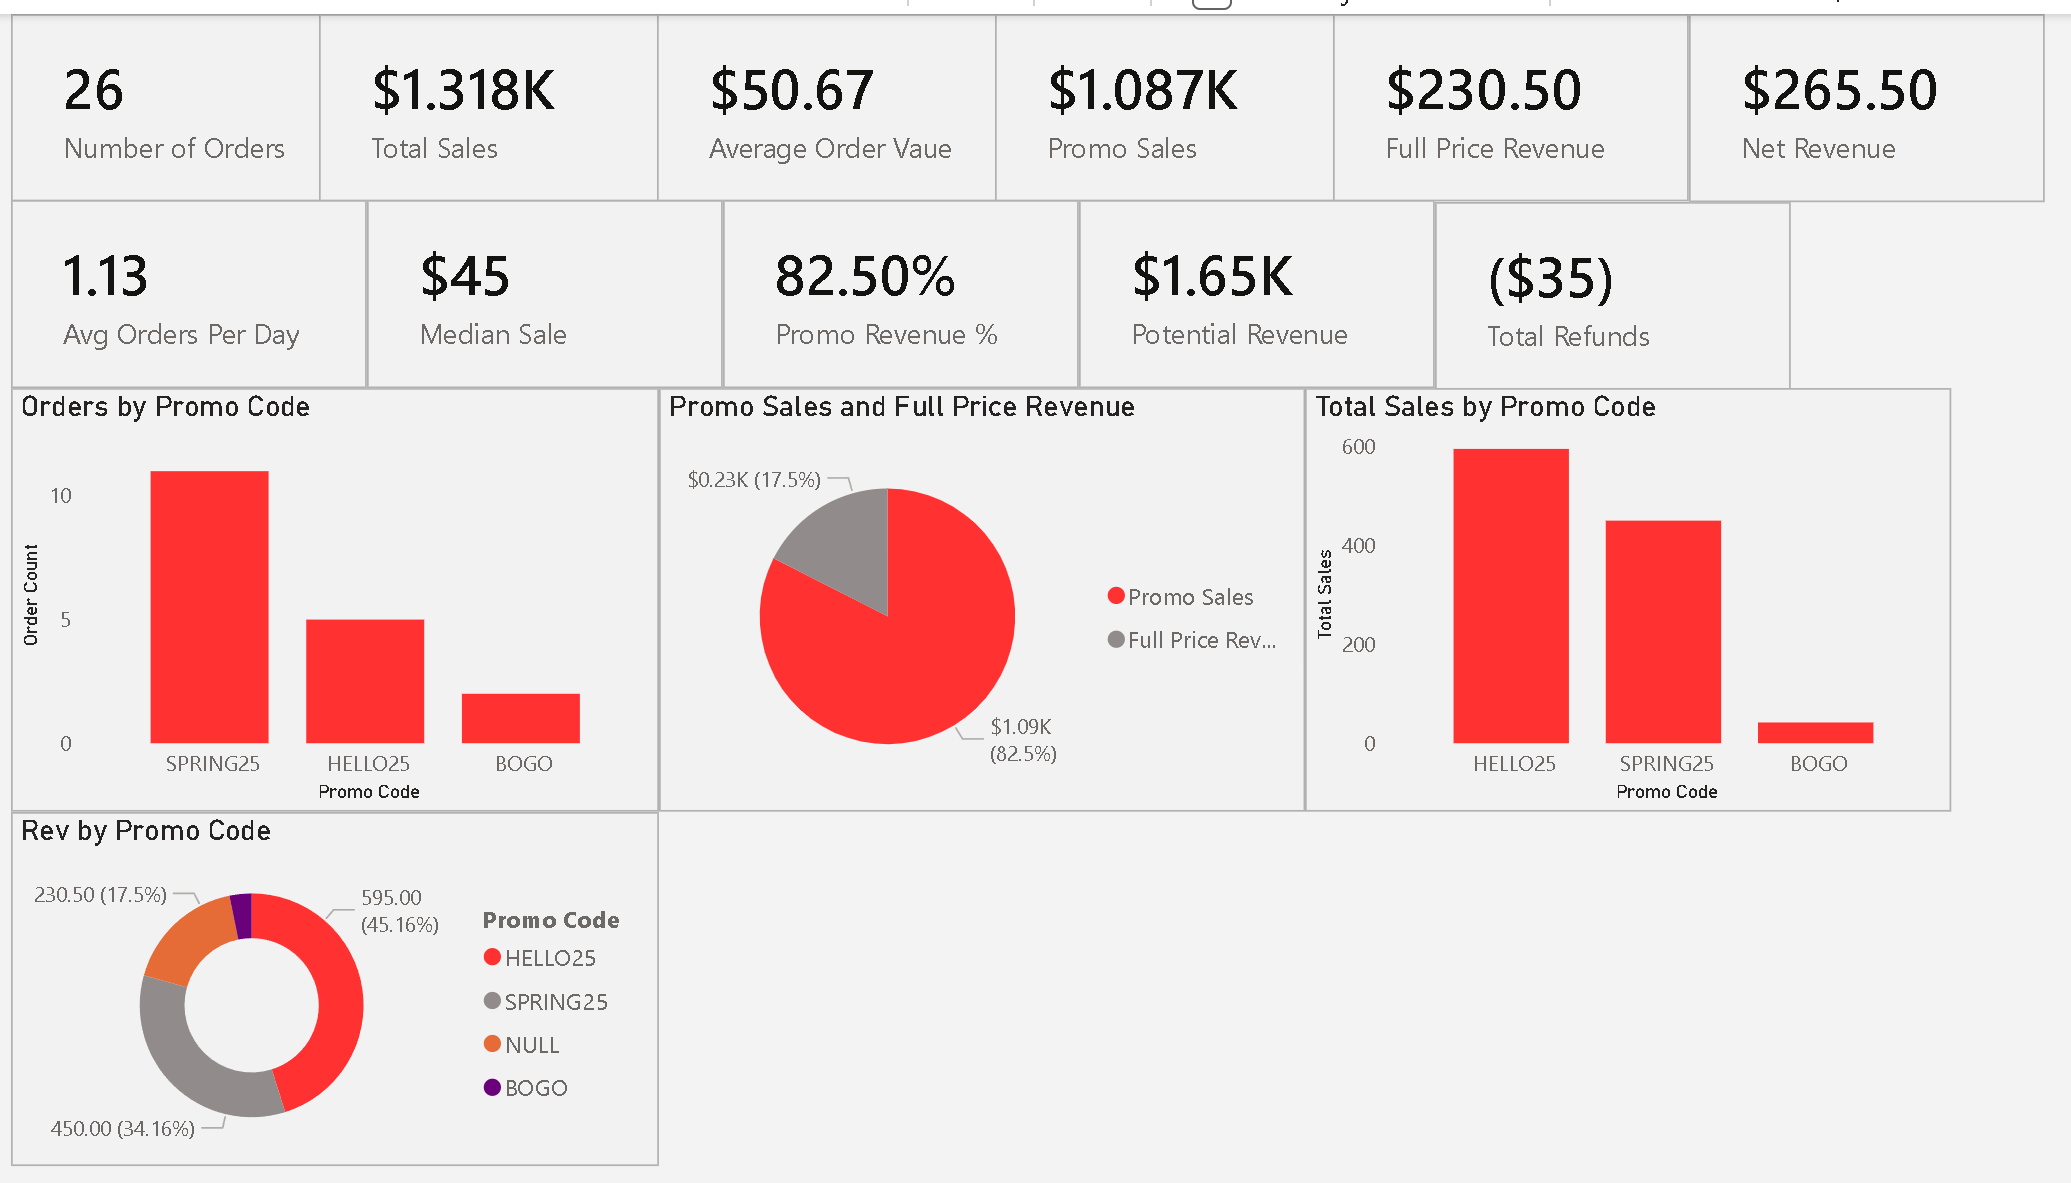

What the dashboard file says about the page in this screenshot:
{"tool":"powerbi","page":{"name":"Page 1","canvas":[1280,720],"ordinal":0},"visuals":[{"type":"cardVisual","fields":{"Data":["Financial Measures.Order Count"]},"box":[10.5,0,207,109],"z":0},{"type":"cardVisual","fields":{"Data":["Financial Measures.Total Sales"]},"box":[189.7,0,207,109],"z":1000},{"type":"cardVisual","fields":{"Data":["Financial Measures.AOV"]},"box":[386.3,0,207,109],"z":2000},{"type":"cardVisual","fields":{"Data":["Financial Measures.Promo Sales"]},"box":[583,0,207,109],"z":3000},{"type":"columnChart","title":"Orders by Promo Code","fields":{"Category":["Majin Sales Data Spring 2025.promo_code"],"Y":["Financial Measures.Order Count"]},"box":[10.5,217.6,377,246.7],"z":4000},{"type":"cardVisual","fields":{"Data":["Financial Measures.Full Price Revenue"]},"box":[779.6,0,207,109],"z":5000},{"type":"pieChart","fields":{"Y":["Financial Measures.Promo Sales","Financial Measures.Full Price Revenue"]},"box":[387.5,217.6,375.9,246.7],"z":6000},{"type":"cardVisual","fields":{"Data":["Financial Measures.Refunds Total"]},"box":[839,109.4,207.1,109.4],"z":7000},{"type":"columnChart","fields":{"Y":["Sum(Majin Sales Data Spring 2025.amount)"],"Category":["Majin Sales Data Spring 2025.promo_code"]},"box":[763.3,217.6,375.9,246.7],"z":8000},{"type":"cardVisual","fields":{"Data":["Financial Measures.Avg Orders Per Day"]},"box":[10.5,108.2,207.1,109.4],"z":9000},{"type":"cardVisual","fields":{"Data":["Financial Measures.Median Sale"]},"box":[217.6,108.2,207.1,109.4],"z":10000},{"type":"cardVisual","fields":{"Data":["Financial Measures.Promo Revenue %"]},"box":[424.7,108.2,207.1,109.4],"z":11000},{"type":"cardVisual","fields":{"Data":["Financial Measures.Potential Revenue"]},"box":[631.9,108.2,207.1,109.4],"z":12000},{"type":"donutChart","title":"Rev by Promo Code","fields":{"Y":["Sum(Majin Sales Data Spring 2025.amount)"],"Category":["Majin Sales Data Spring 2025.promo_code"]},"box":[10.5,464.3,377,206],"z":13000},{"type":"cardVisual","fields":{"Data":["Financial Measures.Net Revenue"]},"box":[986.8,0,207.1,109.4],"z":14000}]}

Visuals, with their boxes in screenshot pixels (x1, y1, x2, y2), scaled from the page's 1280x720 canvas onto the 2071x1183 screenshot:
cardVisual - Financial Measures.Order Count: bbox=(17, 0, 352, 179)
cardVisual - Financial Measures.Total Sales: bbox=(307, 0, 642, 179)
cardVisual - Financial Measures.AOV: bbox=(625, 0, 960, 179)
cardVisual - Financial Measures.Promo Sales: bbox=(943, 0, 1278, 179)
"Orders by Promo Code" columnChart: bbox=(17, 358, 627, 763)
cardVisual - Financial Measures.Full Price Revenue: bbox=(1261, 0, 1596, 179)
pieChart - Financial Measures.Promo Sales x Financial Measures.Full Price Revenue: bbox=(627, 358, 1235, 763)
cardVisual - Financial Measures.Refunds Total: bbox=(1357, 180, 1693, 360)
columnChart - Sum(Majin Sales Data Spring 2025.amount) x Majin Sales Data Spring 2025.promo_code: bbox=(1235, 358, 1843, 763)
cardVisual - Financial Measures.Avg Orders Per Day: bbox=(17, 178, 352, 358)
cardVisual - Financial Measures.Median Sale: bbox=(352, 178, 687, 358)
cardVisual - Financial Measures.Promo Revenue %: bbox=(687, 178, 1022, 358)
cardVisual - Financial Measures.Potential Revenue: bbox=(1022, 178, 1357, 358)
"Rev by Promo Code" donutChart: bbox=(17, 763, 627, 1101)
cardVisual - Financial Measures.Net Revenue: bbox=(1597, 0, 1932, 180)
